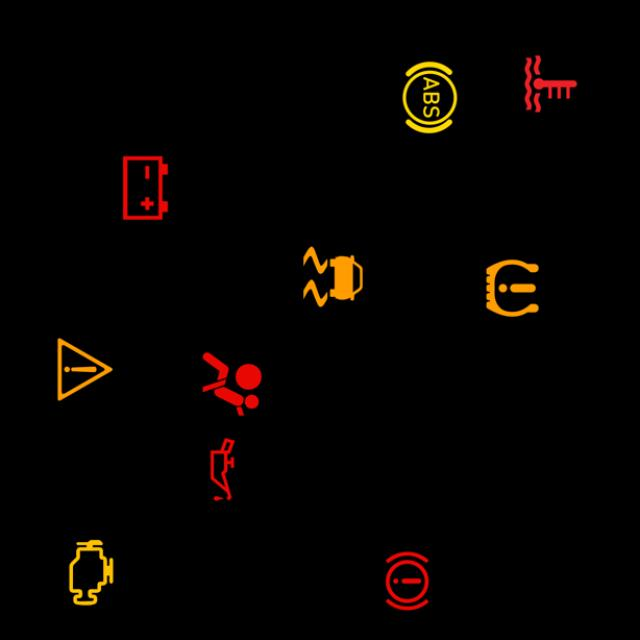Anti Lock Braking System: (391, 58, 469, 136)
Braking System Issue: (368, 541, 446, 619)
Charging System Issue: (106, 148, 184, 226)
Check Engine: (52, 532, 130, 610)
Electronic Stability Problem -ESP-: (294, 237, 372, 314)
Engine Overheating Warning Light: (512, 44, 590, 122)
Low Engine Oil Warning Light: (184, 430, 262, 508)
Low Tire Pressure Warning Light: (474, 248, 552, 326)
Master warning light: (46, 330, 124, 408)
SRS-Airbag: (193, 344, 271, 422)
